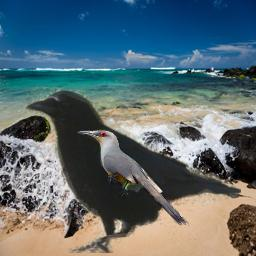Crow: (19, 85, 241, 253)
Cuckoo: (77, 129, 189, 228)
